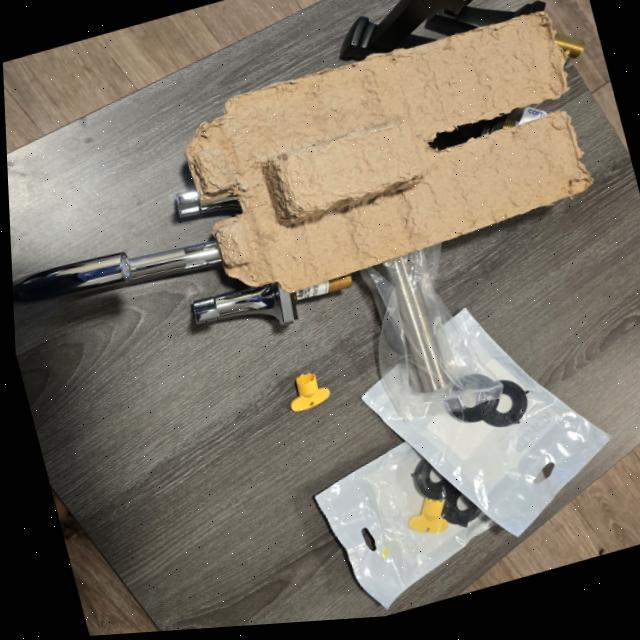10o: (13, 238, 221, 302), (192, 274, 352, 323), (174, 188, 241, 218)
11o: (357, 243, 502, 420)
12o: (314, 440, 495, 606)
13o: (361, 307, 609, 534)
14: (289, 371, 330, 410)
9o: (339, 0, 545, 59), (428, 103, 547, 149), (554, 33, 584, 57)
